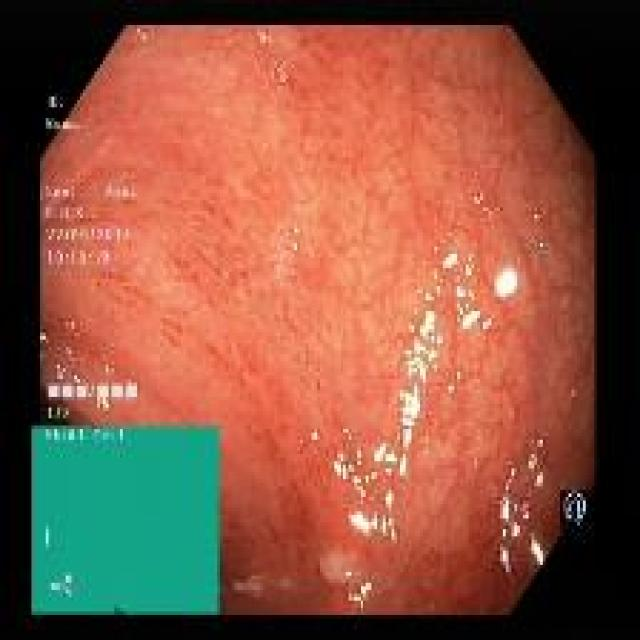ulcerative-colitis: (41, 27, 595, 615)
